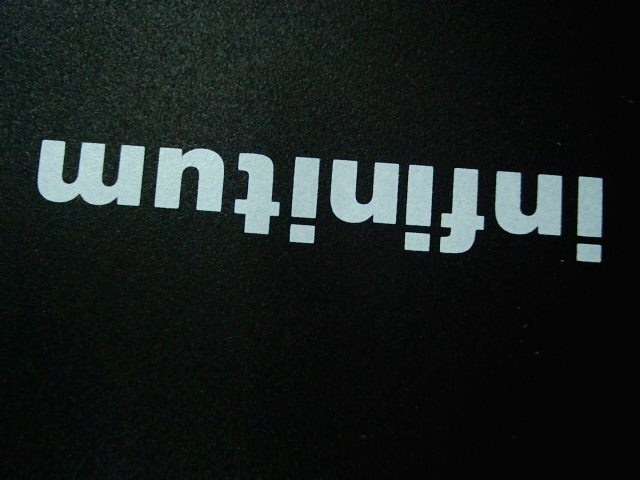BK_infinitum: (23, 123, 617, 293)
